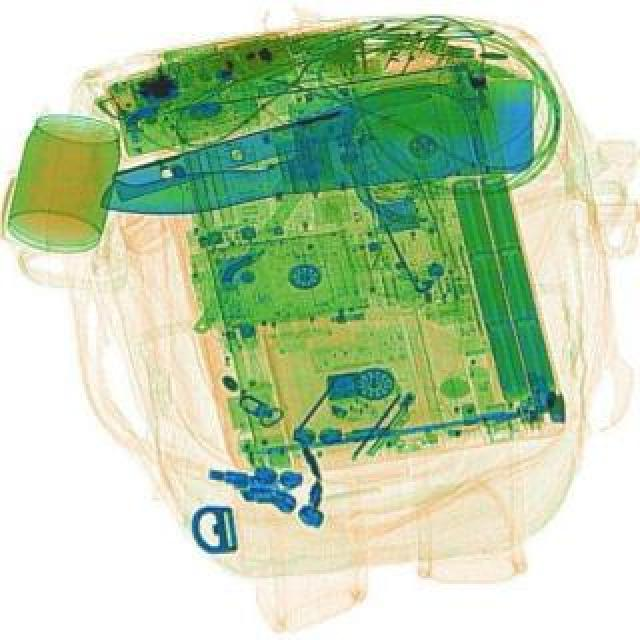knife: (94, 74, 546, 222)
